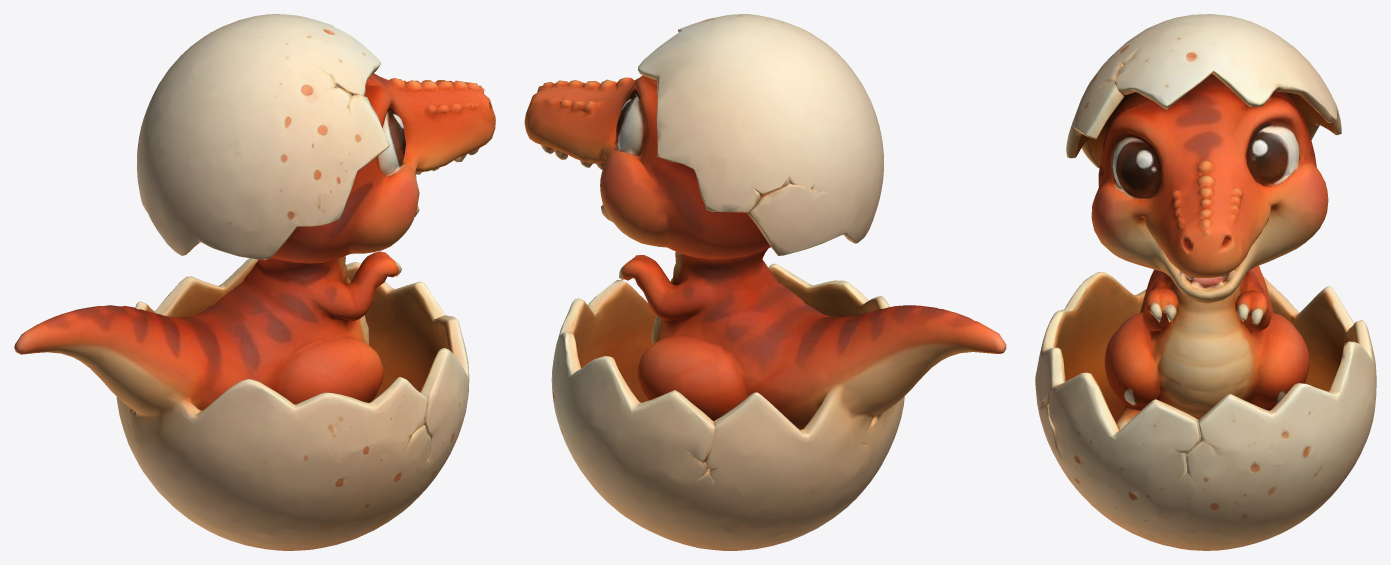
File: baby_1.glb
3 renders of one model, left to right at view 1: azimuth 30°, elevation 25°; view 2: azimuth 150°, elevation 25°; view 3: azimuth 270°, elevation 25°, orthographic. The views are drawn at different scales.
Visible parts, largest first — view 1: tripo_node_f858c1ad-9f1b-4dc0-8e93-fd30a39ba25f; view 2: tripo_node_f858c1ad-9f1b-4dc0-8e93-fd30a39ba25f; view 3: tripo_node_f858c1ad-9f1b-4dc0-8e93-fd30a39ba25f.
Boxes of the visible parts, bbox=[...] form: tripo_node_f858c1ad-9f1b-4dc0-8e93-fd30a39ba25f: bbox=[14, 14, 495, 550]; tripo_node_f858c1ad-9f1b-4dc0-8e93-fd30a39ba25f: bbox=[524, 14, 1006, 550]; tripo_node_f858c1ad-9f1b-4dc0-8e93-fd30a39ba25f: bbox=[1035, 14, 1376, 550].
Bounding box in the file's own units: 0.9694 × 1 × 0.6165.
1 material, 1 textured.
